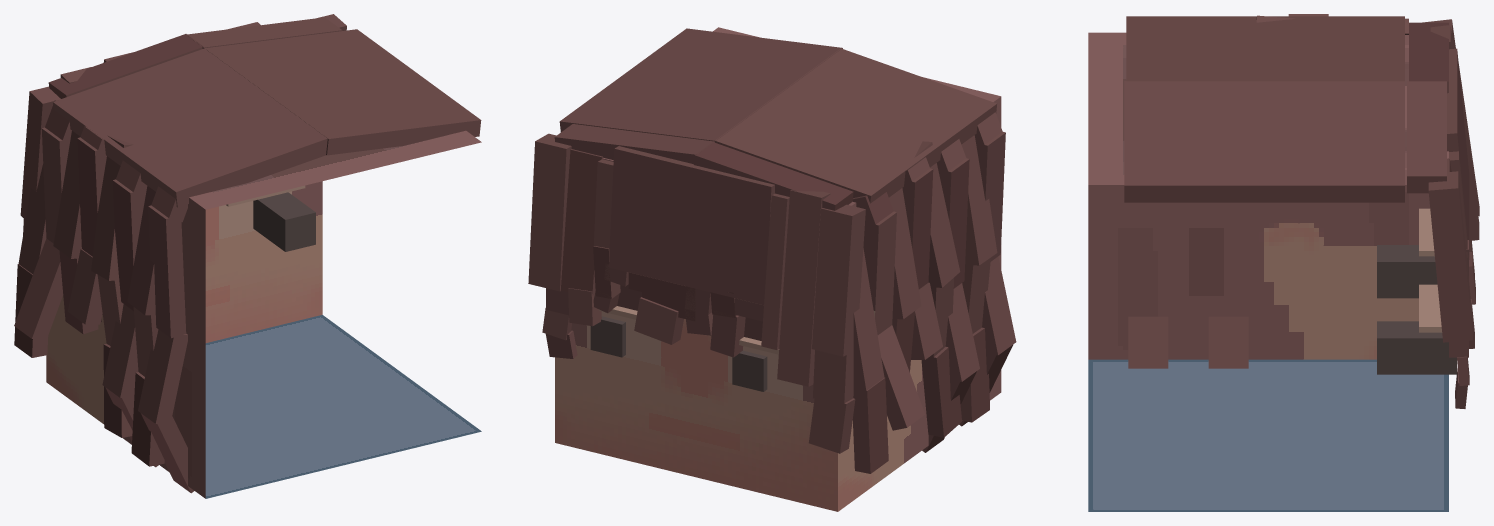
The model's file is bindyisreal.glb.
The picture shows the model from 3 angles, left to right: view 1: azimuth 30°, elevation 25°; view 2: azimuth 150°, elevation 25°; view 3: azimuth 270°, elevation 25°; orthographic projection. The views are drawn at different scales.
Visible parts, largest first — view 1: head_69, cube_56, cube_63, cube_45, cube_55, cube_53, cube_54, cube_48, cube_51, cube_52, cube_46, cube_50 (+30 smaller); view 2: head_69, hair_0, cube_2, cube_11, cube_8, cube_1, cube_48, cube_50, cube_55, cube_51, cube_57, cube_54 (+47 smaller); view 3: head_69, cube_8, cube_58, cube_59, cube_60, cube_61, cube_62, cube_63, cube_49, cube_57, cube_55, cube_54 (+17 smaller).
Boxes of the visible parts, x1,y1,x2,y2 form: head_69: [46, 130, 481, 498]; cube_56: [158, 125, 328, 207]; cube_63: [311, 107, 481, 155]; cube_45: [148, 205, 186, 338]; cube_55: [140, 112, 310, 191]; cube_53: [105, 86, 275, 165]; cube_54: [123, 99, 292, 181]; cube_48: [53, 48, 222, 129]; cube_51: [70, 61, 239, 136]; cube_52: [88, 73, 257, 155]; cube_46: [138, 329, 187, 423]; cube_50: [48, 34, 203, 98]; head_69: [555, 27, 1001, 511]; hair_0: [608, 146, 774, 305]; cube_2: [777, 190, 830, 386]; cube_11: [812, 204, 865, 356]; cube_8: [528, 133, 571, 291]; cube_1: [560, 149, 602, 295]; cube_48: [715, 127, 888, 203]; cube_50: [694, 142, 853, 210]; cube_55: [805, 61, 978, 144]; cube_51: [733, 115, 905, 197]; cube_57: [554, 124, 714, 164]; cube_54: [786, 75, 960, 150]; head_69: [1088, 32, 1448, 511]; cube_8: [1428, 171, 1472, 342]; cube_58: [1324, 81, 1364, 202]; cube_59: [1284, 81, 1324, 202]; cube_60: [1244, 81, 1284, 202]; cube_61: [1204, 81, 1244, 202]; cube_62: [1164, 81, 1204, 202]; cube_63: [1124, 81, 1164, 202]; cube_49: [1365, 81, 1404, 202]; cube_57: [1407, 81, 1446, 193]; cube_55: [1166, 16, 1206, 81]; cube_54: [1206, 16, 1246, 81].
Bounding box in the file's own units: 1.39 × 1.25 × 1.35.
4 materials, 4 textured.
